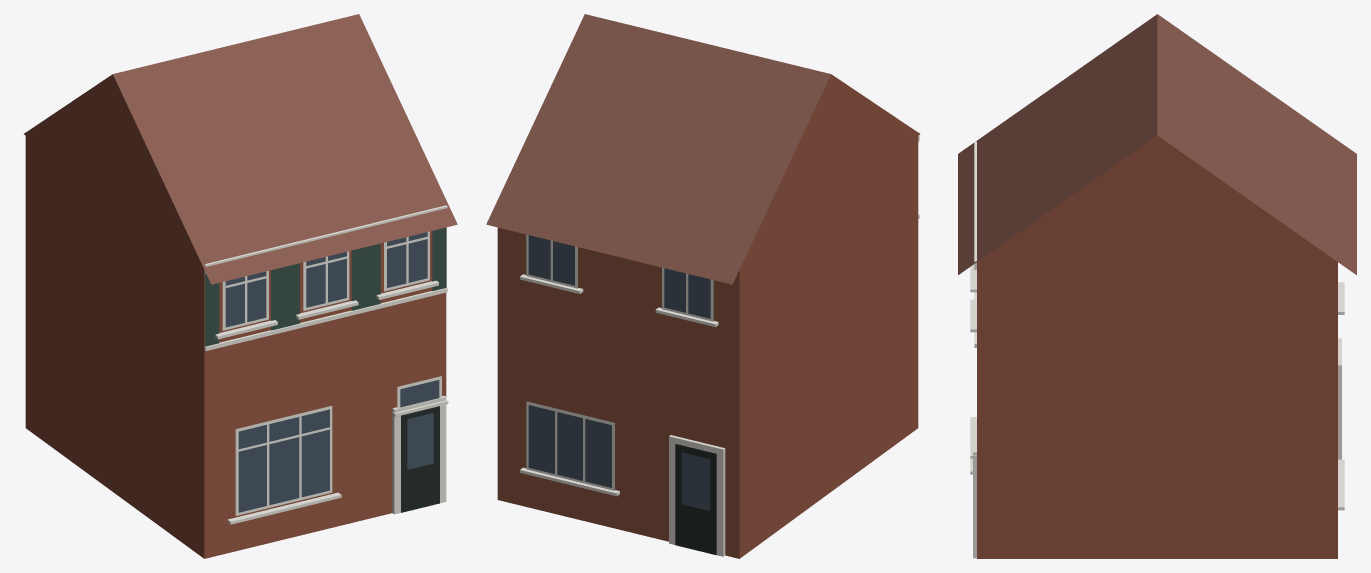
File: nn-board__green__2__gable__long__solid__mirror.glb
3 views of the same model, side by side, from view 1: azimuth 30°, elevation 25°; view 2: azimuth 150°, elevation 25°; view 3: azimuth 270°, elevation 25° (orthographic).
Parts seen in each view (by area): view 1: nn-board__green__2__gable__long__solid__mirror; view 2: nn-board__green__2__gable__long__solid__mirror; view 3: nn-board__green__2__gable__long__solid__mirror.
Boxes of the visible parts, x1=… form: nn-board__green__2__gable__long__solid__mirror: x1=24, y1=14, x2=457, y2=558; nn-board__green__2__gable__long__solid__mirror: x1=486, y1=14, x2=919, y2=558; nn-board__green__2__gable__long__solid__mirror: x1=958, y1=14, x2=1356, y2=558.
Bounding box in the file's own units: 5.34 × 8.69 × 7.4.
